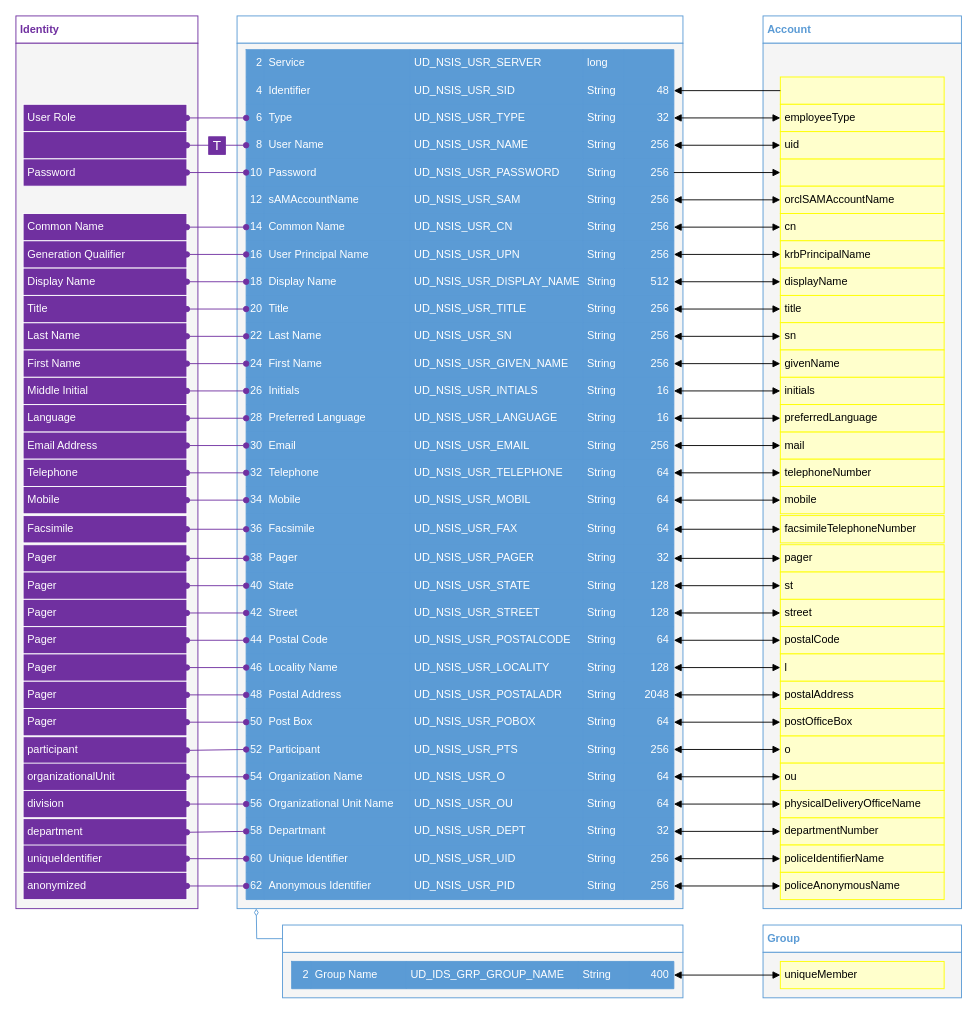
Some shapes in this 978 by 1014 pixel diagram are drawn without their labels. The centre of each missing label's shape, as x and y in pixels:
"entryUUID" belongs at point (861, 90).
"IDS Account" belongs at point (459, 29).
"IDS Account Group" belongs at point (482, 938).
"User Login" belongs at point (104, 145).
"userPassword" belongs at point (861, 172).
